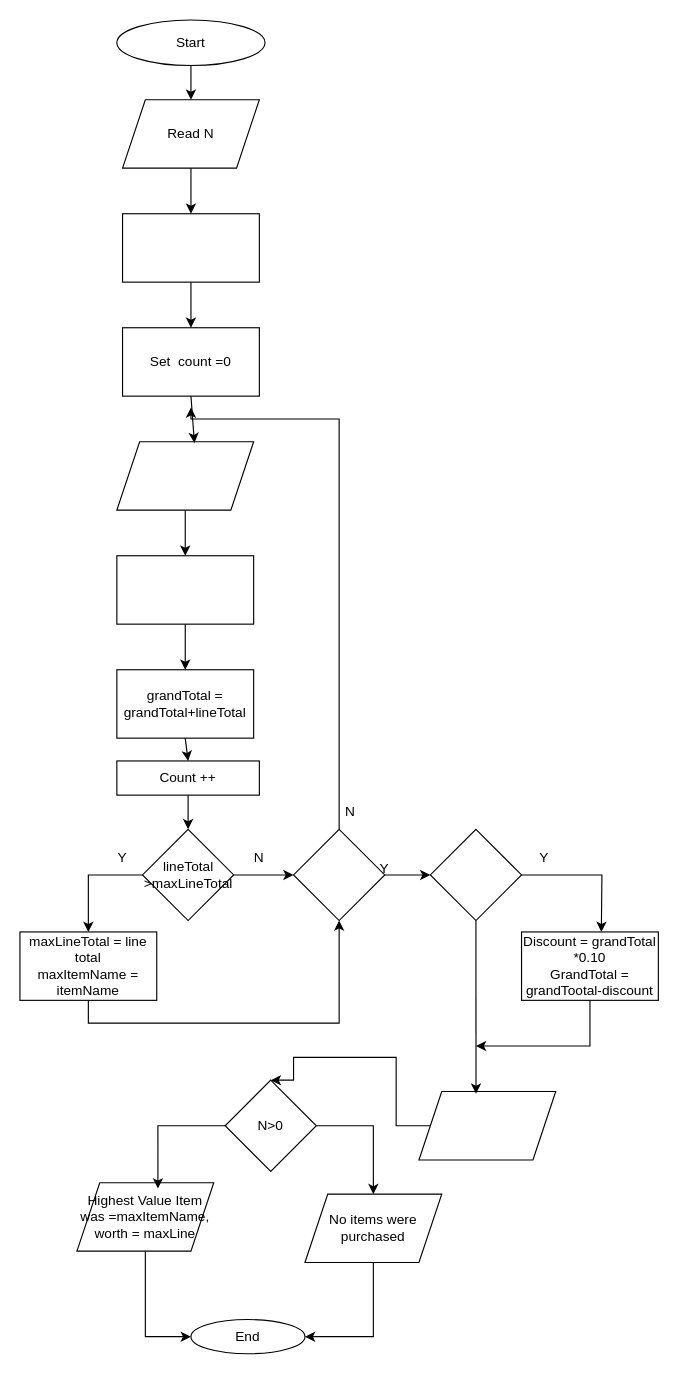
Some shapes in this 678 by 1374 pixel diagram are drawn without their labels. The shapes that lost their labels are listed below. From the top down, each one's box as (x1, y1, x2, y2) in pixels, then its label:
(121, 213, 259, 282): Set grandtotal =0 Set maxLineTotal =0 Set maxItemName =0
(116, 441, 254, 510): Read itemName, quantity,unitPrice
(116, 555, 254, 624): lineTotal = quantity * unitPrice
(292, 828, 385, 921): if count ==N
(429, 828, 522, 921): grandTotal>5000
(418, 1090, 556, 1160): Final bill amoiunt = grandTotal
